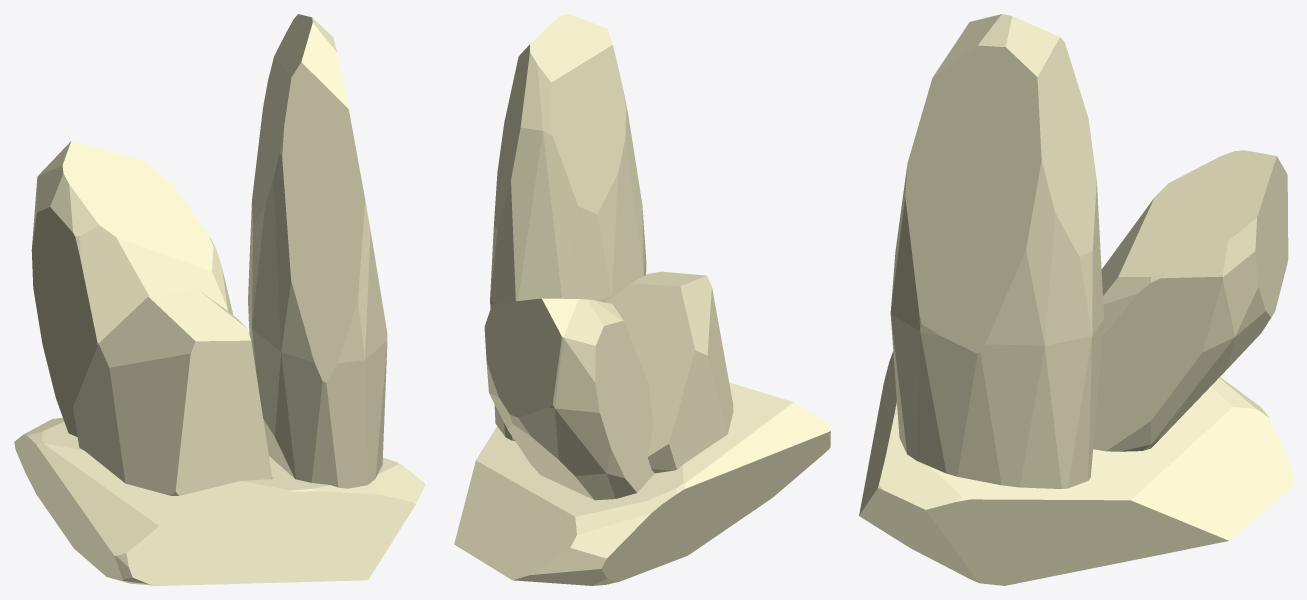
The model's file is rockwall2.fbx.
3 views of the same model, side by side, from view 1: azimuth 30°, elevation 25°; view 2: azimuth 150°, elevation 25°; view 3: azimuth 270°, elevation 25° (orthographic). The views are drawn at different scales.
Parts seen in each view (by area): view 1: Icosphere.017, Icosphere.018, Icosphere.003, Icosphere.016; view 2: Icosphere.018, Icosphere.017, Icosphere.016, Icosphere.003; view 3: Icosphere.017, Icosphere.018, Icosphere.016.
Boxes of the visible parts, box(x1,y1,x2,y2) form: Icosphere.017: box(248, 14, 387, 488); Icosphere.018: box(14, 417, 425, 585); Icosphere.003: box(73, 290, 272, 495); Icosphere.016: box(31, 141, 232, 436); Icosphere.018: box(454, 382, 830, 585); Icosphere.017: box(490, 14, 646, 440); Icosphere.016: box(484, 298, 654, 500); Icosphere.003: box(605, 271, 733, 473); Icosphere.017: box(890, 14, 1104, 488); Icosphere.018: box(859, 351, 1292, 585); Icosphere.016: box(1093, 150, 1288, 451).
Bounding box in the file's own units: 882 × 1424 × 1020.
